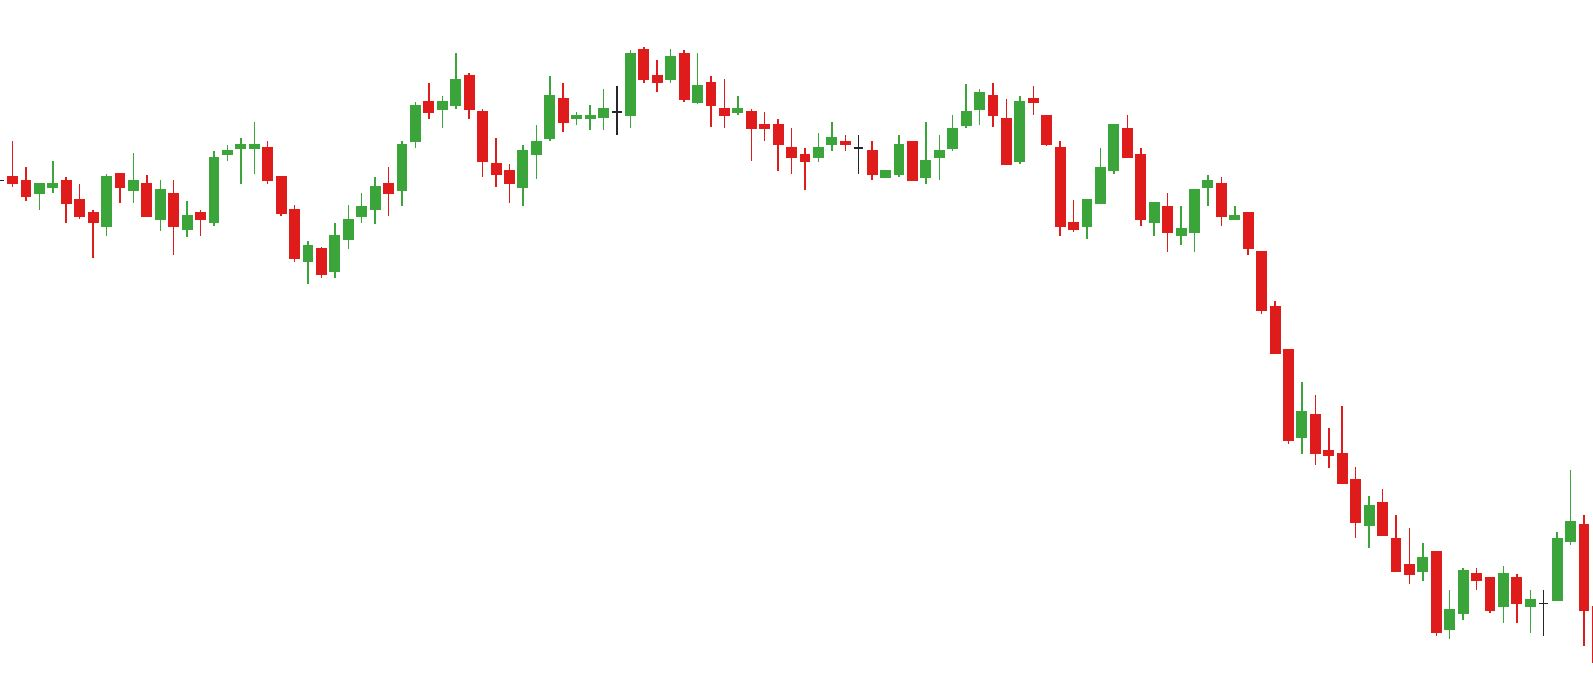buy: (170, 163, 319, 293)
sell: (541, 41, 653, 112)
